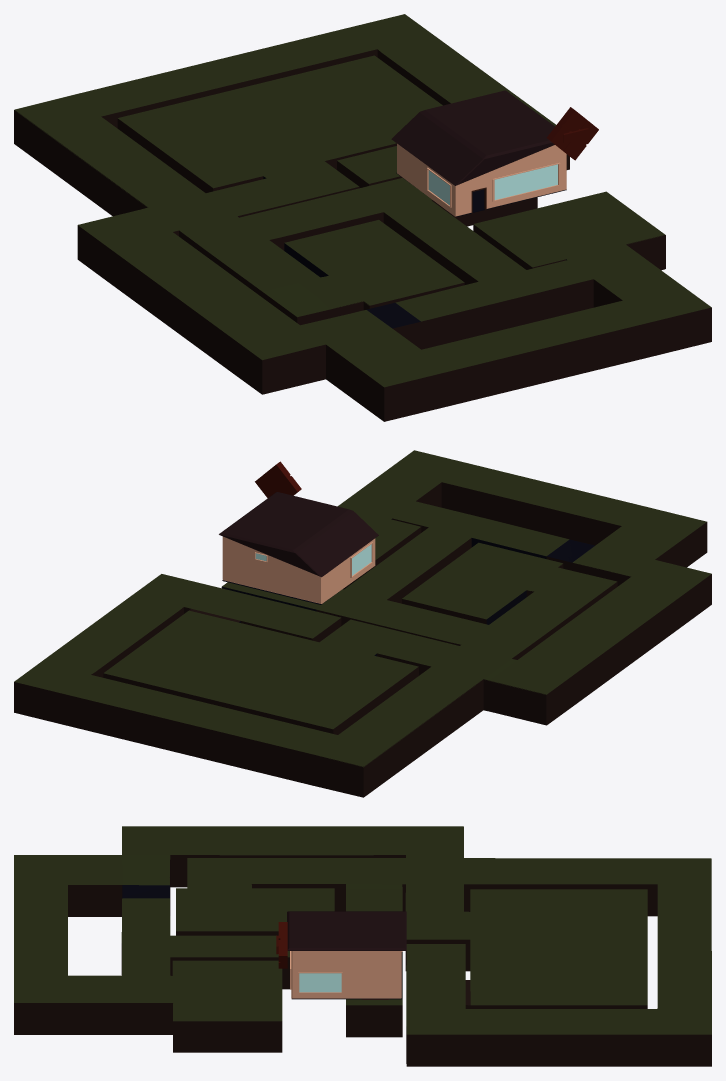
File: Dealership concept.fbx
3 views of the same model, one above another, from view 1: azimuth 30°, elevation 25°; view 2: azimuth 150°, elevation 25°; view 3: azimuth 270°, elevation 25° (orthographic). The views are drawn at different scales.
Visible parts, largest first — view 1: Plane, roof guide, Cube.001; view 2: Plane, roof guide, Cube.001; view 3: Plane, roof guide, Cube.001.
Part boxes in pixels (x1,y1,x2,y2): Plane: (14,14,711,421); roof guide: (391,90,554,185); Cube.001: (546,107,598,160); Plane: (14,450,711,797); roof guide: (219,492,378,577); Cube.001: (255,461,301,498); Plane: (14,826,711,1066); roof guide: (287,911,406,950); Cube.001: (276,922,287,968).
Bounding box in the file's own units: 4596 × 1193 × 6505.
